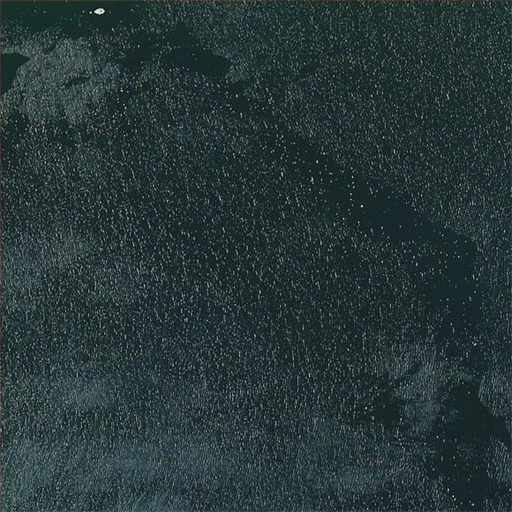ship: (93, 5, 106, 16)
